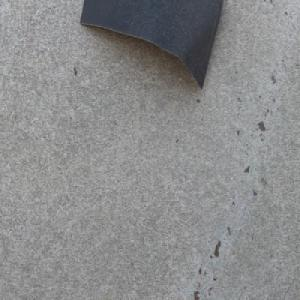PaintChip: (78, 0, 224, 91)
